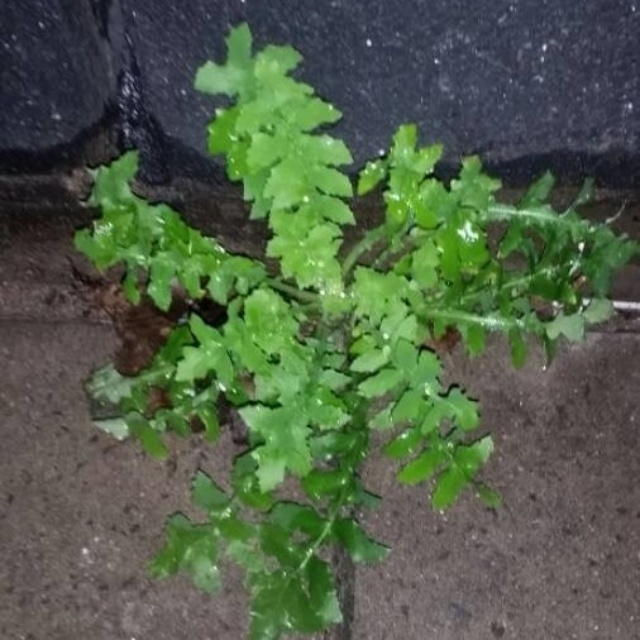obstacle: (71, 15, 567, 587)
